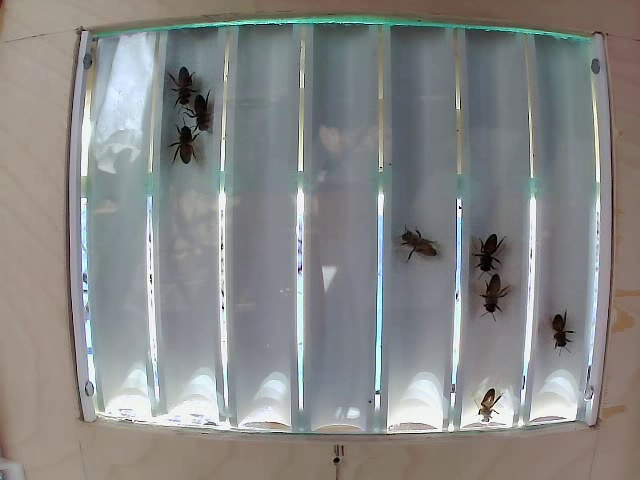bee: (158, 126, 214, 164), (466, 376, 509, 423), (402, 212, 432, 277), (543, 303, 578, 352), (471, 271, 515, 309), (191, 90, 225, 134), (159, 70, 191, 104), (472, 229, 499, 266)
